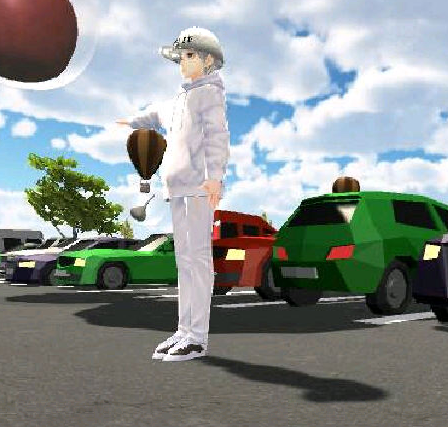singleP_left: (114, 23, 230, 367)
